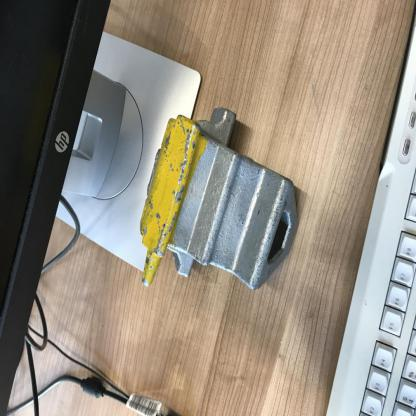Twistlock: (137, 101, 306, 291)
